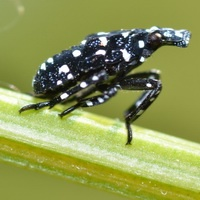insect: (19, 26, 190, 143)
